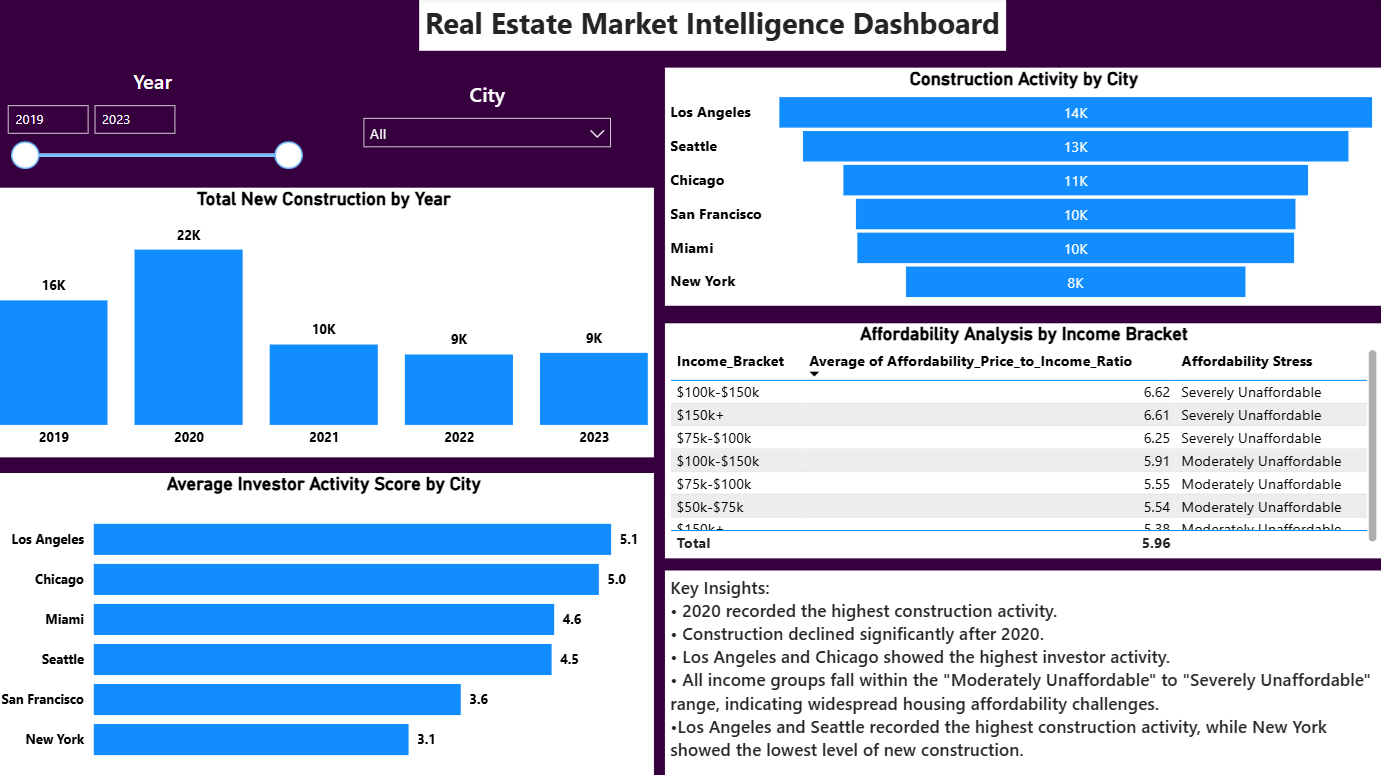

This screenshot's page, from the dashboard's own definition file:
{"tool":"powerbi","page":{"name":"Supply Investment and affordability analysis","canvas":[1280,720],"ordinal":2},"visuals":[{"type":"clusteredColumnChart","title":"Total New Construction by Year","fields":{"Category":["Market_Trends.Year"],"Y":["Properties_transactions_cleaned.Total_New_Const"]},"box":[0,176,607.8,248.7],"z":0},{"type":"clusteredBarChart","title":"Average Investor Activity Score by City","fields":{"Category":["Market_Trends.City"],"Y":["Avg(Market_Trends.Investor_Activity_Score)"]},"box":[0,439.1,607.8,280.6],"z":1000},{"type":"tableEx","title":"Affordability Analysis by Income Bracket","fields":{"Values":["Market_Trends.Income_Bracket","Avg(Market_Trends.Affordability_Price_to_Income_Ratio)","Market_Trends.Affordability Stress"]},"box":[618,301,661.6,216.7],"z":2000},{"type":"textbox","box":[618,527.9,661.6,191.9],"z":3000},{"type":"textbox","box":[391.4,0,540.6,49.3],"z":4000},{"type":"funnel","title":"Construction Activity by City","fields":{"Category":["Market_Trends.City"],"Y":["Sum(Market_Trends.New_Construction_Count)"]},"box":[618,65.4,661.6,219.6],"z":5000},{"type":"slicer","title":"Year","fields":{"Values":["Market_Trends.Year"]},"box":[0,65.4,292.3,100.3],"z":6000},{"type":"slicer","title":"City","fields":{"Values":["Market_Trends.City"]},"box":[330.6,77.3,248,88],"z":7000}]}

Visuals, with their boxes in screenshot pixels (x1, y1, x2, y2), scaled from the page's 1280x720 canvas onto the 1387x776 screenshot:
"Total New Construction by Year" clusteredColumnChart: 0, 190, 659, 458
"Average Investor Activity Score by City" clusteredBarChart: 0, 473, 659, 775
"Affordability Analysis by Income Bracket" tableEx: 670, 324, 1386, 558
textbox: 670, 569, 1386, 775
textbox: 424, 0, 1010, 53
"Construction Activity by City" funnel: 670, 70, 1386, 307
"Year" slicer: 0, 70, 317, 179
"City" slicer: 358, 83, 627, 178
